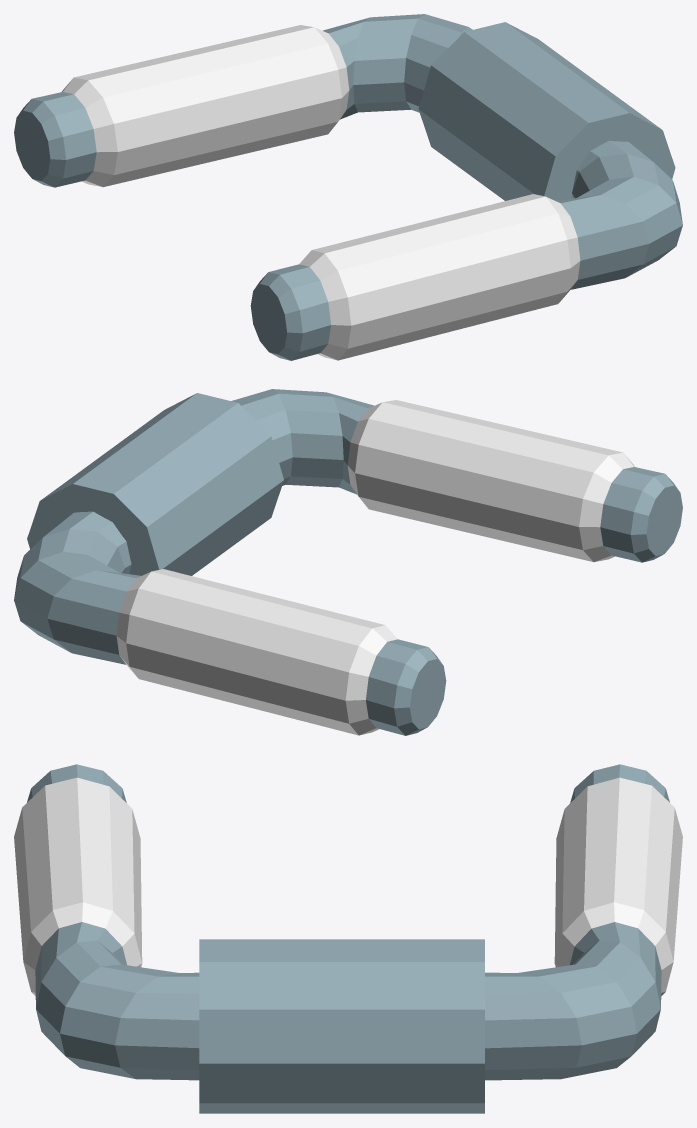
File: DoorHandle03.fbx
3 renders of one model, top to bottom at view 1: azimuth 30°, elevation 25°; view 2: azimuth 150°, elevation 25°; view 3: azimuth 270°, elevation 25°, orthographic. The views are drawn at different scales.
Parts seen in each view (by area): view 1: DoorHandle03; view 2: DoorHandle03; view 3: DoorHandle03.
Part boxes in pixels (x1,y1,x2,y2): DoorHandle03: (14,14,682,360); DoorHandle03: (14,389,682,735); DoorHandle03: (14,764,682,1113).
Bounding box in the file's own units: 12.18 × 3.34 × 13.36.
